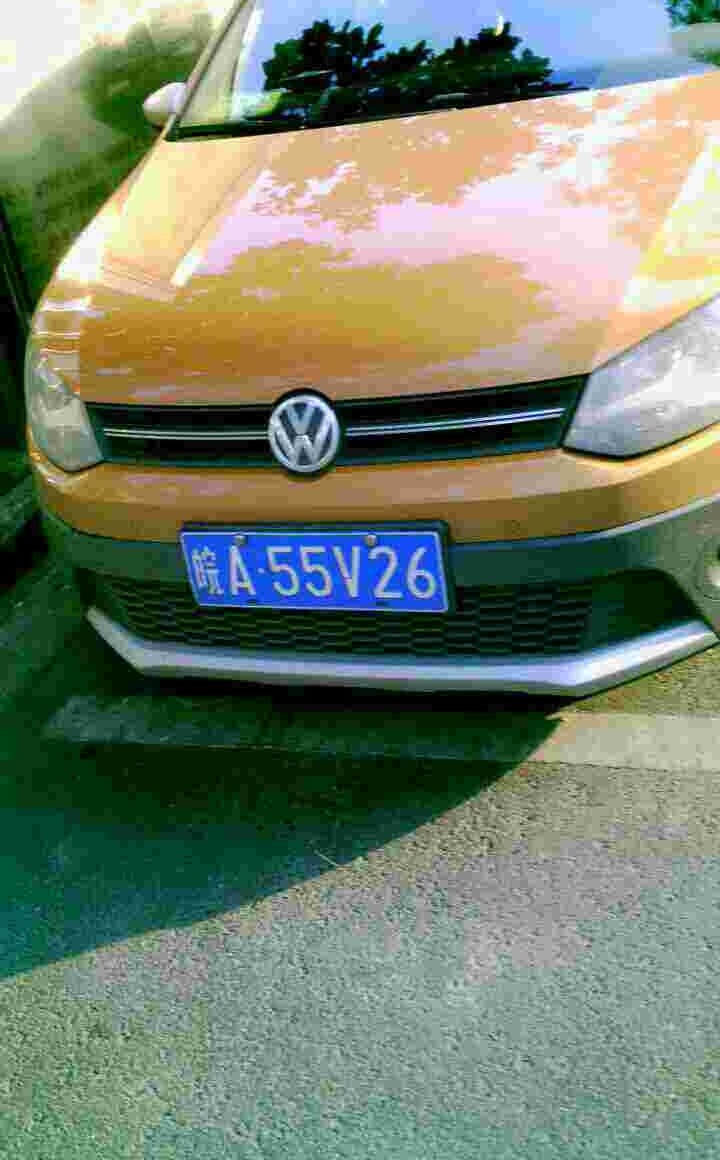license_plate: (172, 533, 448, 610)
